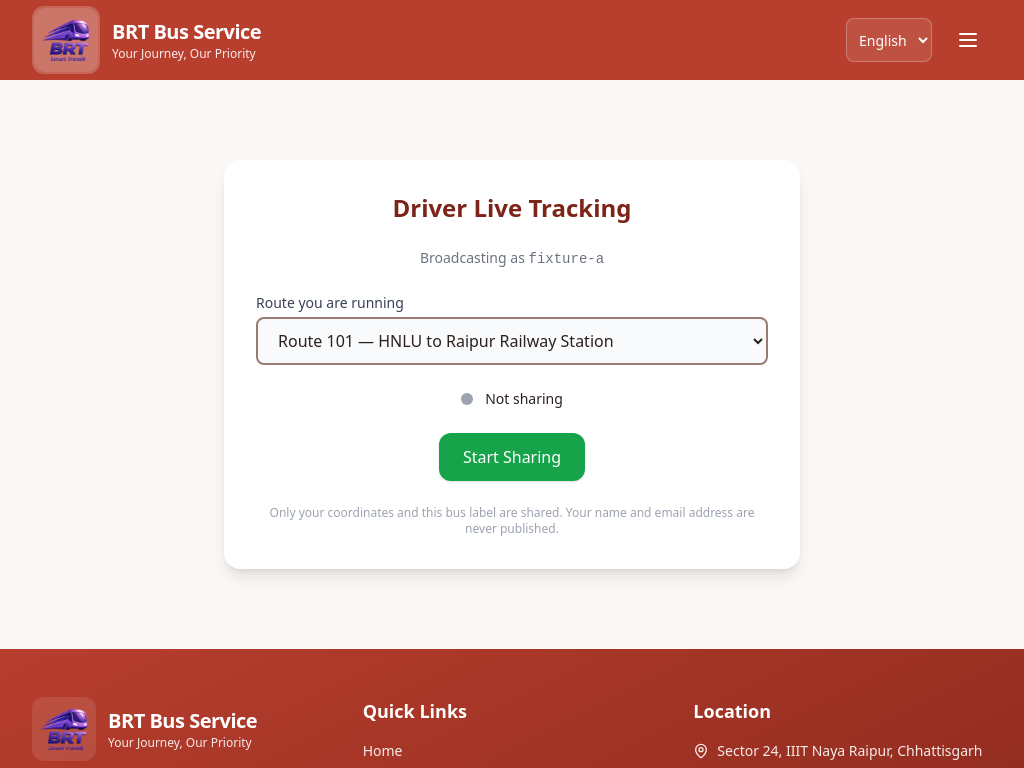
Test case: ending a shift › clears the published position when the driver stops
The width and height of the screenshot is (1024, 768).
Click the button "Start Sharing": [512, 457] box [439,433,585,481]
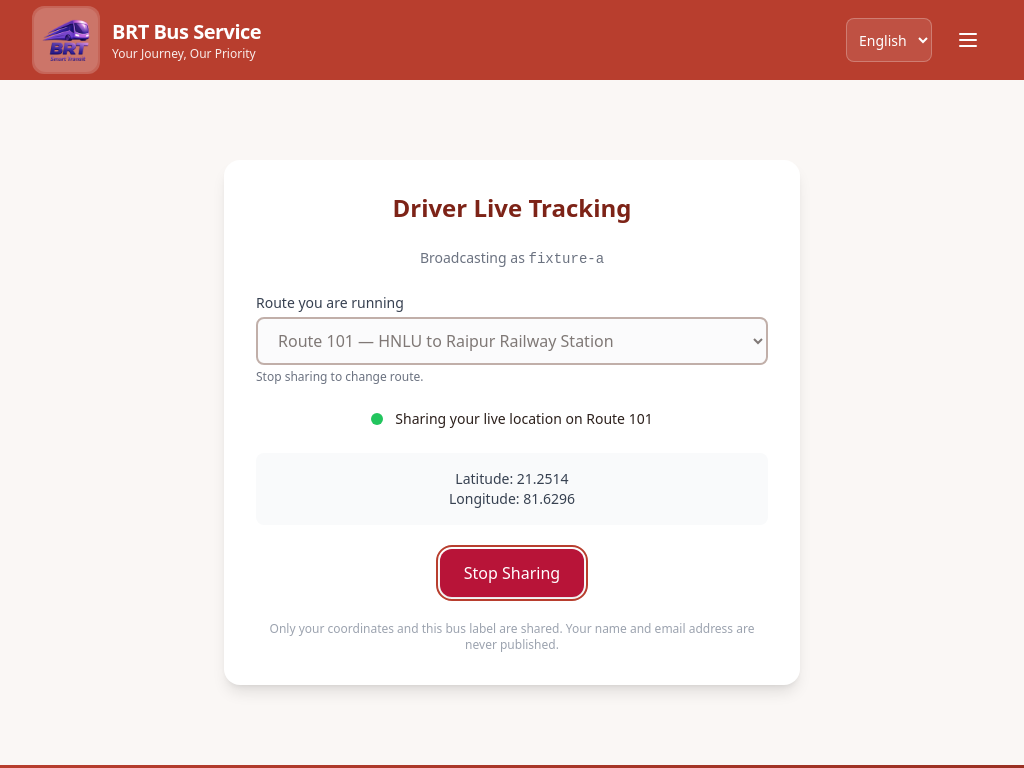
expect the text "Sharing your live location on Route 101" is shown: met, box [395,409,653,429]
Click the button "Stop Sharing": [512, 573] box [440,549,584,597]
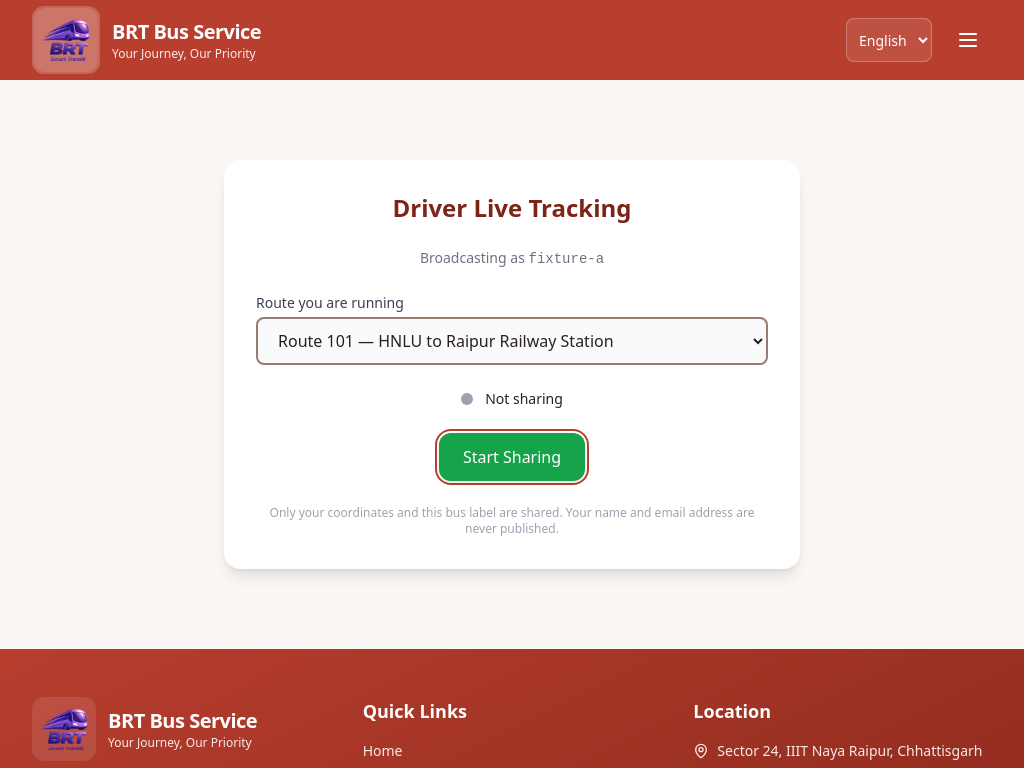
expect the text "Not sharing" is shown: met, box [485,389,563,409]
